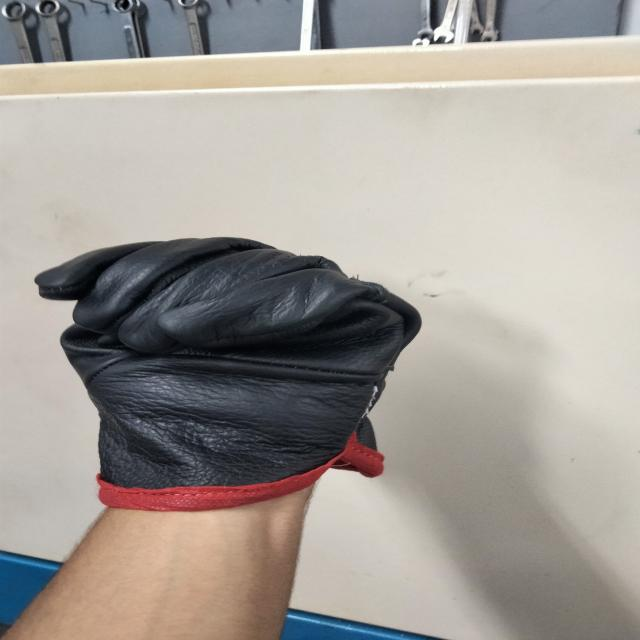Gloves: (33, 235, 425, 500)
